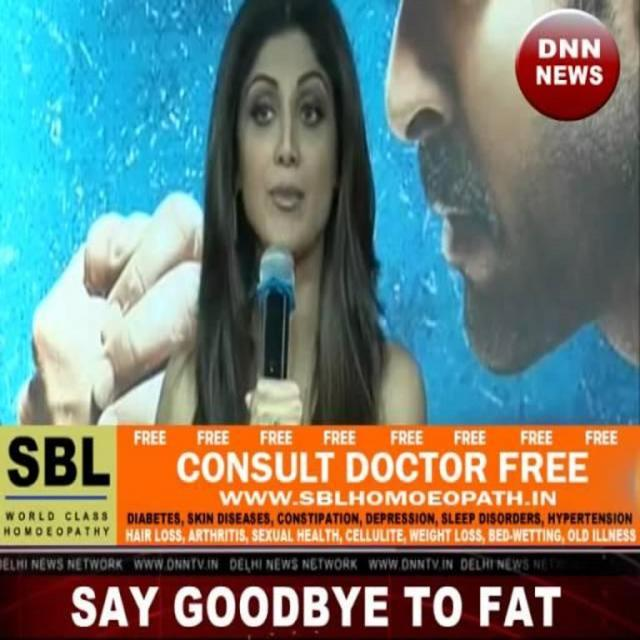nomask: (386, 1, 638, 374), (236, 30, 339, 252)
